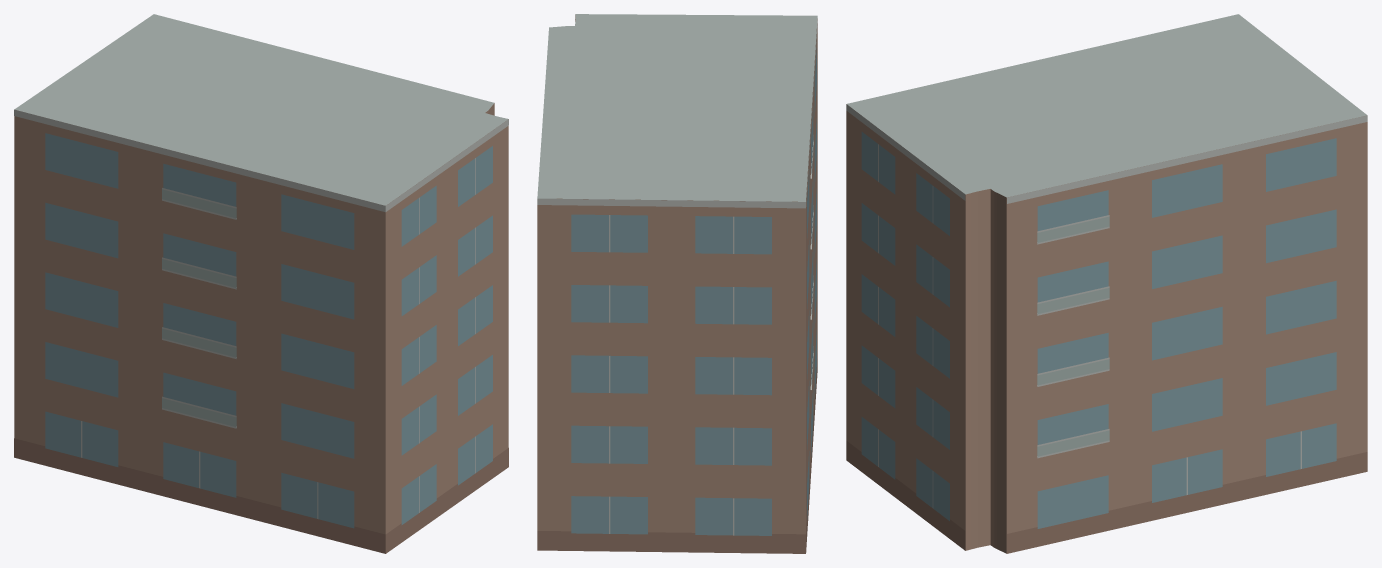
Rendered from survey-upis-33017191.glb.
The picture shows the model from 3 angles, left to right: view 1: azimuth 30°, elevation 25°; view 2: azimuth 150°, elevation 25°; view 3: azimuth 270°, elevation 25°; orthographic projection. The views are drawn at different scales.
Parts seen in each view (by area): view 1: survey-upis-33017191.tmp; view 2: survey-upis-33017191.tmp; view 3: survey-upis-33017191.tmp.
Boxes of the visible parts, x1,y1,x2,y2 form: survey-upis-33017191.tmp: (14,14,508,553); survey-upis-33017191.tmp: (537,14,817,553); survey-upis-33017191.tmp: (846,14,1367,553).
Bounding box in the file's own units: 14.59 × 13.2 × 17.5.
